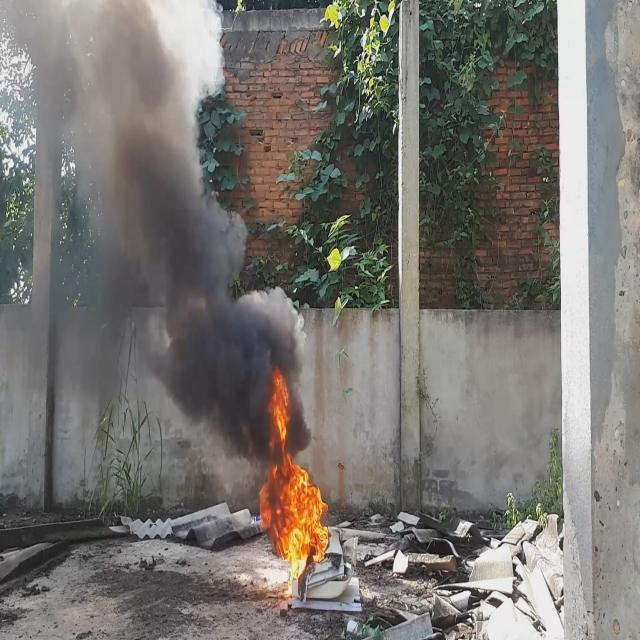Fire: (256, 368, 332, 594)
Smoke: (0, 0, 314, 463)
